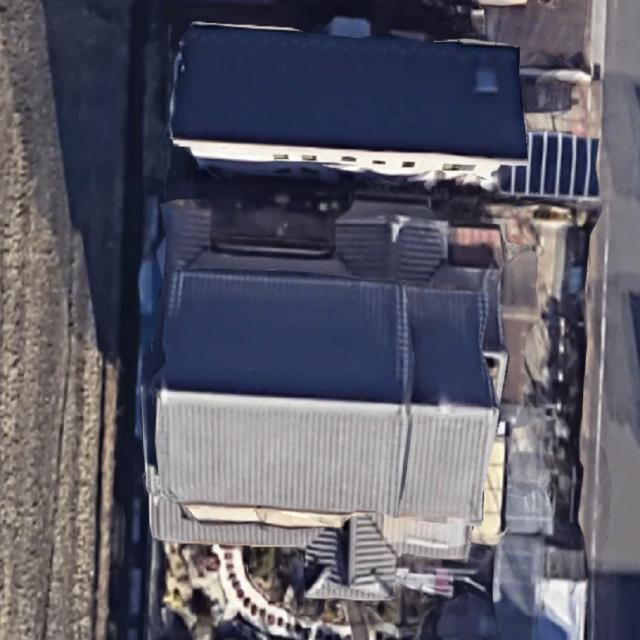Batiment: (150, 270, 499, 559), (171, 22, 528, 188)
